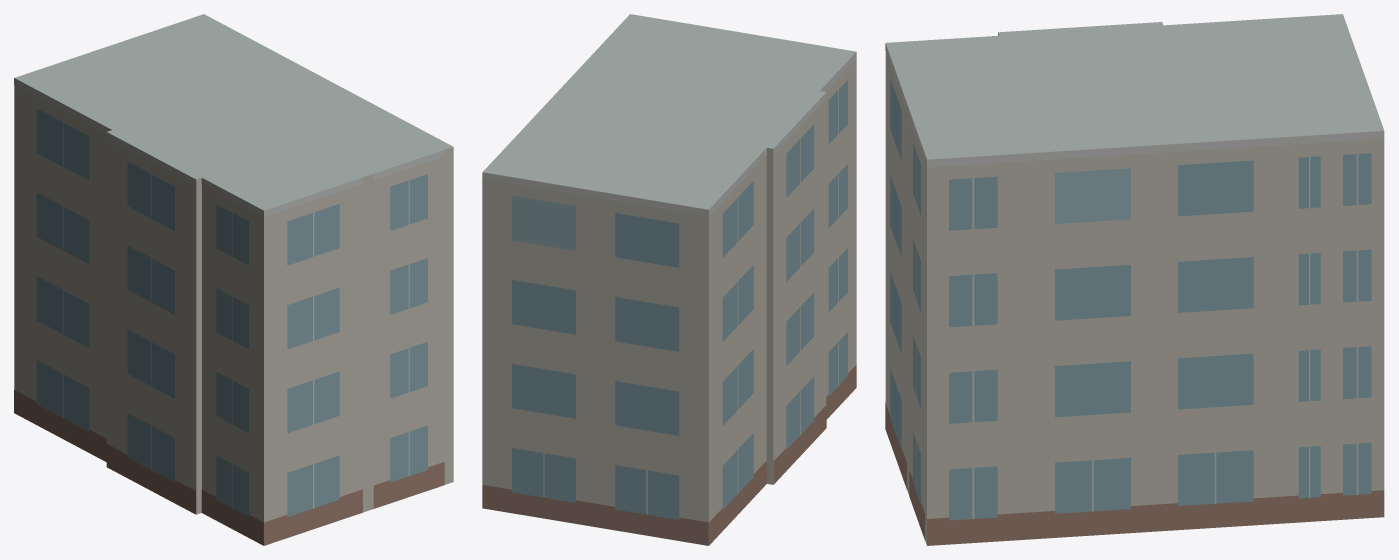
File: survey-upis-33001129.glb
3 renders of one model, left to right at view 1: azimuth 30°, elevation 25°; view 2: azimuth 150°, elevation 25°; view 3: azimuth 270°, elevation 25°, orthographic. The views are drawn at different scales.
Visible parts, largest first — view 1: survey-upis-33001129.tmp; view 2: survey-upis-33001129.tmp; view 3: survey-upis-33001129.tmp.
Part boxes in pixels (x1,y1,x2,y2): survey-upis-33001129.tmp: (14,14,453,545); survey-upis-33001129.tmp: (482,14,856,545); survey-upis-33001129.tmp: (885,14,1384,545).
Bounding box in the file's own units: 9.87 × 12.2 × 14.29.
